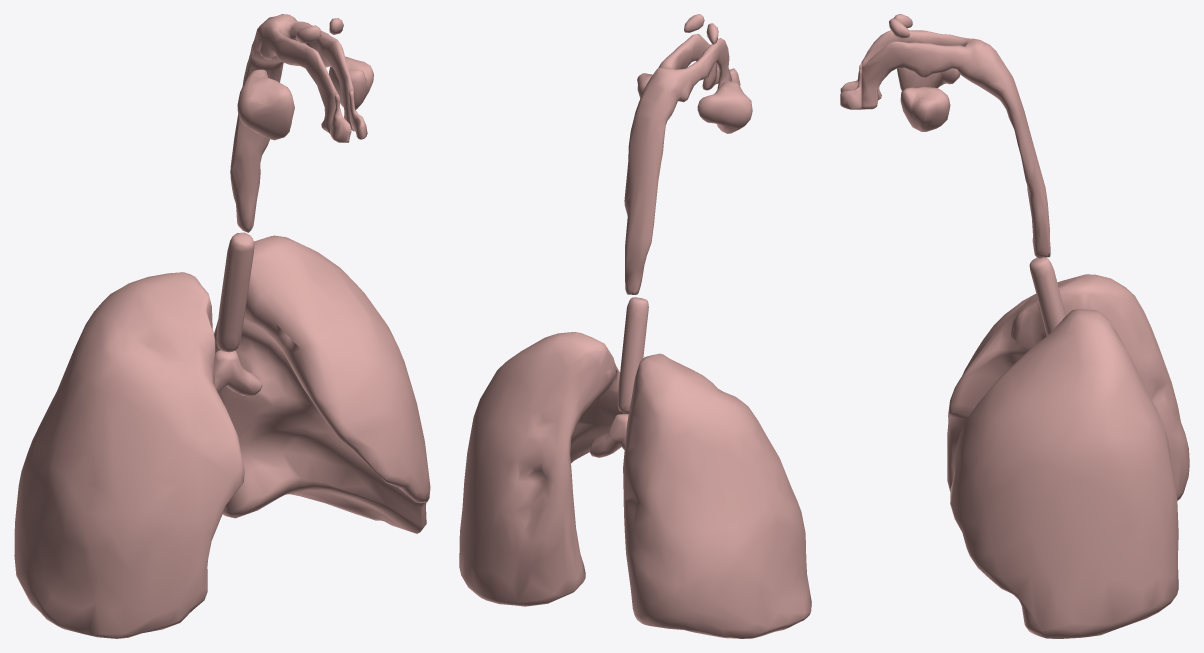
The model's file is pediatric_child_10y_female.respiratory.LOD1.glb.
The picture shows the model from 3 angles, left to right: view 1: azimuth 30°, elevation 25°; view 2: azimuth 150°, elevation 25°; view 3: azimuth 270°, elevation 25°; orthographic projection. The views are drawn at different scales.
Visible parts, largest first — view 1: PEDIATRIC.CHILD_10Y.FEMALE.RESPIRATORY.LUNG.R, PEDIATRIC.CHILD_10Y.FEMALE.RESPIRATORY.LUNG.L, PEDIATRIC.CHILD_10Y.FEMALE.RESPIRATORY.ET2, PEDIATRIC.CHILD_10Y.FEMALE.RESPIRATORY.TRACHEA, PEDIATRIC.CHILD_10Y.FEMALE.RESPIRATORY.BB1, PEDIATRIC.CHILD_10Y.FEMALE.RESPIRATORY.ET1; view 2: PEDIATRIC.CHILD_10Y.FEMALE.RESPIRATORY.LUNG.R, PEDIATRIC.CHILD_10Y.FEMALE.RESPIRATORY.LUNG.L, PEDIATRIC.CHILD_10Y.FEMALE.RESPIRATORY.ET2, PEDIATRIC.CHILD_10Y.FEMALE.RESPIRATORY.TRACHEA, PEDIATRIC.CHILD_10Y.FEMALE.RESPIRATORY.BB1; view 3: PEDIATRIC.CHILD_10Y.FEMALE.RESPIRATORY.LUNG.L, PEDIATRIC.CHILD_10Y.FEMALE.RESPIRATORY.LUNG.R, PEDIATRIC.CHILD_10Y.FEMALE.RESPIRATORY.ET2, PEDIATRIC.CHILD_10Y.FEMALE.RESPIRATORY.TRACHEA, PEDIATRIC.CHILD_10Y.FEMALE.RESPIRATORY.ET1.
Part boxes in pixels (x1,y1,x2,y2): PEDIATRIC.CHILD_10Y.FEMALE.RESPIRATORY.LUNG.R: [14, 272, 244, 638]; PEDIATRIC.CHILD_10Y.FEMALE.RESPIRATORY.LUNG.L: [214, 235, 430, 533]; PEDIATRIC.CHILD_10Y.FEMALE.RESPIRATORY.ET2: [230, 14, 373, 232]; PEDIATRIC.CHILD_10Y.FEMALE.RESPIRATORY.TRACHEA: [216, 232, 254, 352]; PEDIATRIC.CHILD_10Y.FEMALE.RESPIRATORY.BB1: [214, 350, 262, 396]; PEDIATRIC.CHILD_10Y.FEMALE.RESPIRATORY.ET1: [330, 89, 367, 142]; PEDIATRIC.CHILD_10Y.FEMALE.RESPIRATORY.LUNG.R: [623, 353, 811, 638]; PEDIATRIC.CHILD_10Y.FEMALE.RESPIRATORY.LUNG.L: [459, 332, 628, 606]; PEDIATRIC.CHILD_10Y.FEMALE.RESPIRATORY.ET2: [624, 14, 752, 294]; PEDIATRIC.CHILD_10Y.FEMALE.RESPIRATORY.TRACHEA: [617, 297, 648, 412]; PEDIATRIC.CHILD_10Y.FEMALE.RESPIRATORY.BB1: [589, 413, 628, 457]; PEDIATRIC.CHILD_10Y.FEMALE.RESPIRATORY.LUNG.L: [950, 309, 1178, 638]; PEDIATRIC.CHILD_10Y.FEMALE.RESPIRATORY.LUNG.R: [947, 274, 1189, 500]; PEDIATRIC.CHILD_10Y.FEMALE.RESPIRATORY.ET2: [861, 14, 1050, 259]; PEDIATRIC.CHILD_10Y.FEMALE.RESPIRATORY.TRACHEA: [1029, 257, 1065, 335]; PEDIATRIC.CHILD_10Y.FEMALE.RESPIRATORY.ET1: [840, 62, 861, 109].
Size of the model in its own units: 0.1981 by 0.306 by 0.1761.
